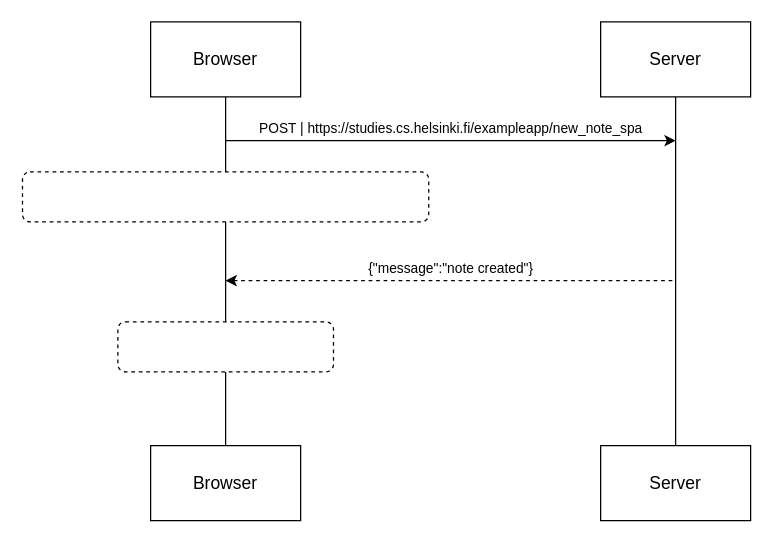
The diagram is 773 pixels wide and 543 high, and some of its shapes have lost their labels. The shapes that lost their labels are listed below. From the top down, each one's centre as x and y in pixels, then its label:
point 225,196: { "content": "testing", "date": "2025-08-02T23:27:56.721Z" }
point 225,346: browser executes the renrender the ul notes
